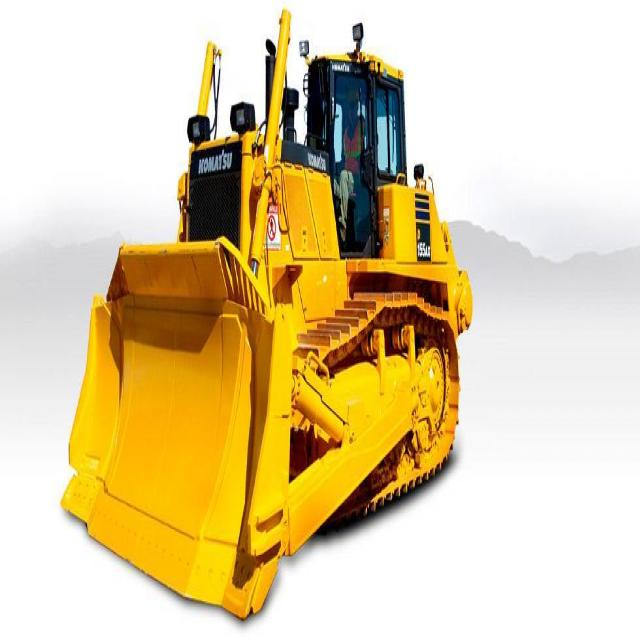Bulldozer: (65, 23, 481, 629)
